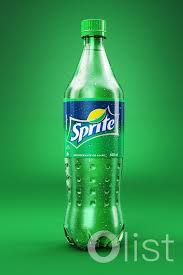sprite_bottle: (64, 15, 124, 247)
